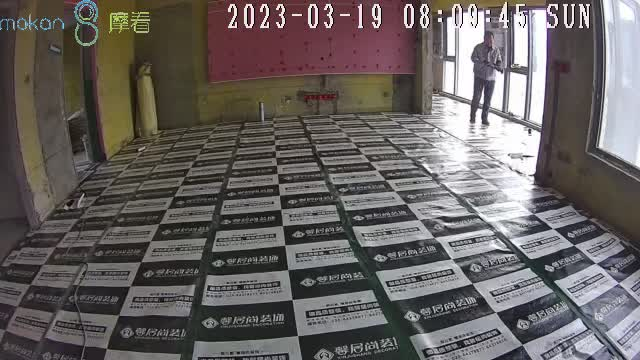people: (471, 32, 505, 124)
window: (441, 9, 550, 125), (593, 1, 640, 167)
